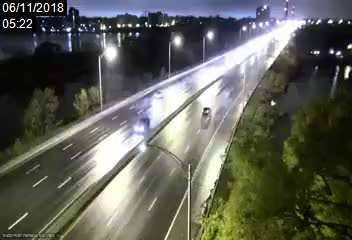personal_car: (133, 119, 150, 132), (201, 106, 211, 119)
